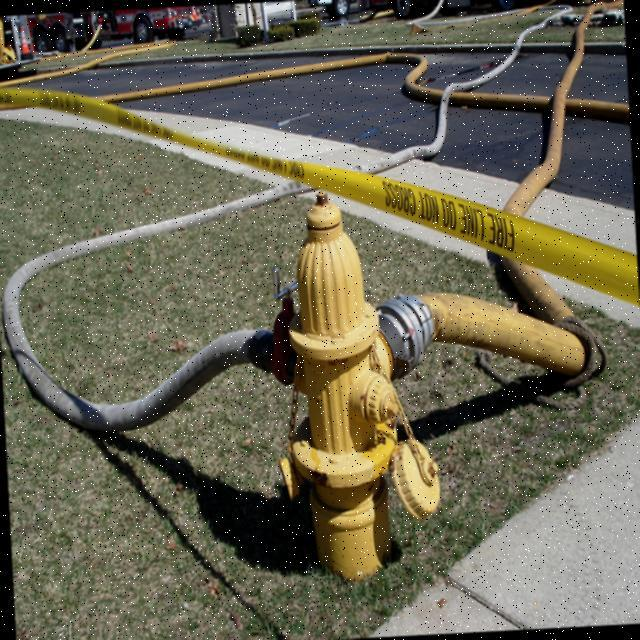fire_hydrant: (268, 186, 450, 583)
